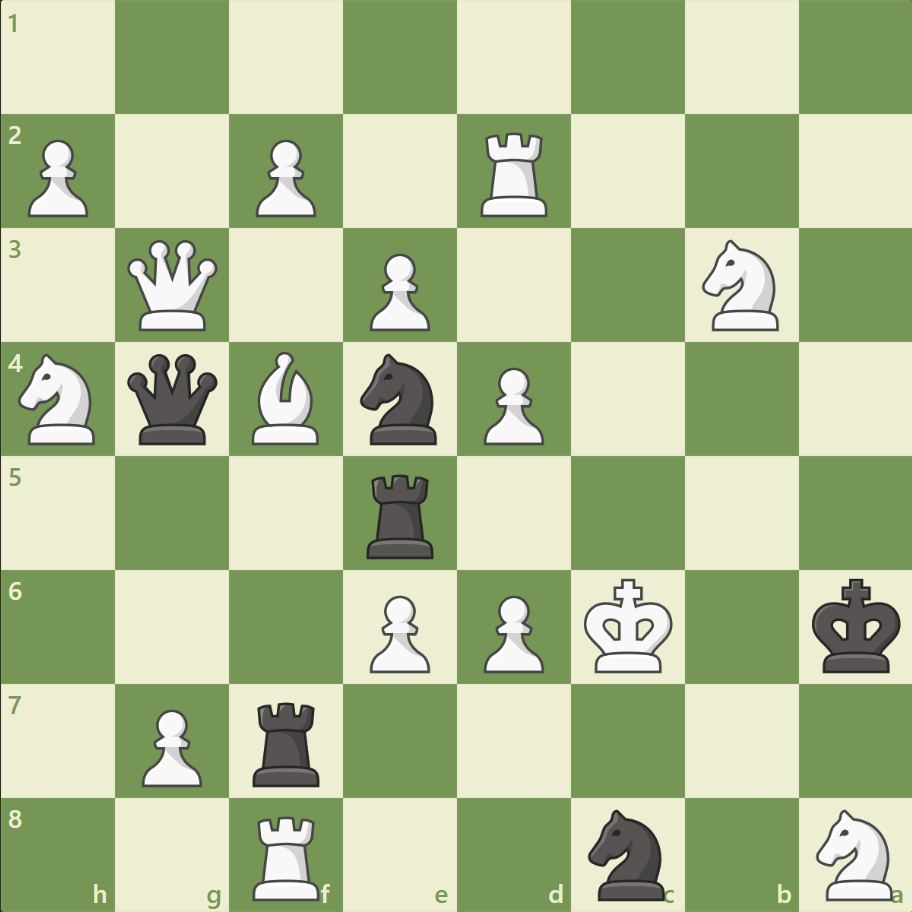B: (244, 347, 328, 449)
K: (579, 571, 679, 679)
N: (692, 234, 789, 337), (806, 802, 903, 904), (11, 348, 108, 450)
P: (133, 700, 208, 791), (474, 586, 549, 677), (474, 359, 549, 450), (247, 132, 322, 223), (20, 132, 95, 223), (361, 586, 435, 677), (361, 246, 435, 337)
Q: (124, 236, 223, 335)
R: (246, 806, 329, 904), (473, 125, 556, 222)
k: (806, 571, 906, 679)
n: (351, 348, 449, 450), (579, 802, 676, 904)
q: (124, 349, 223, 449)
r: (246, 693, 329, 790), (360, 466, 442, 563)
